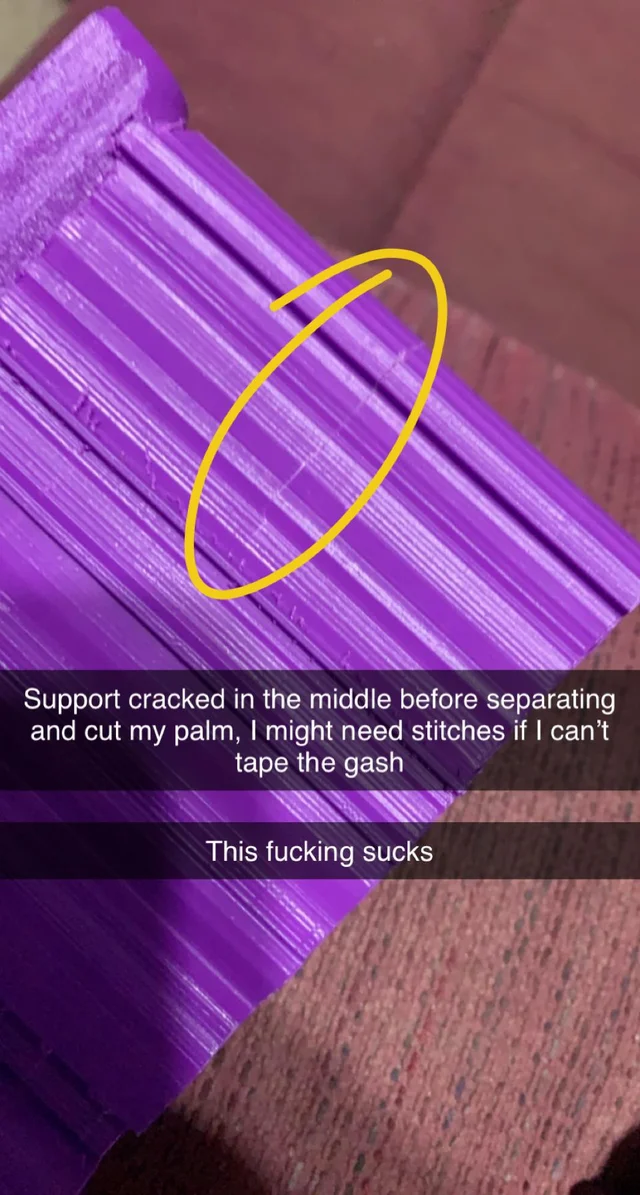Layer Shifting: (426, 281, 490, 908)
